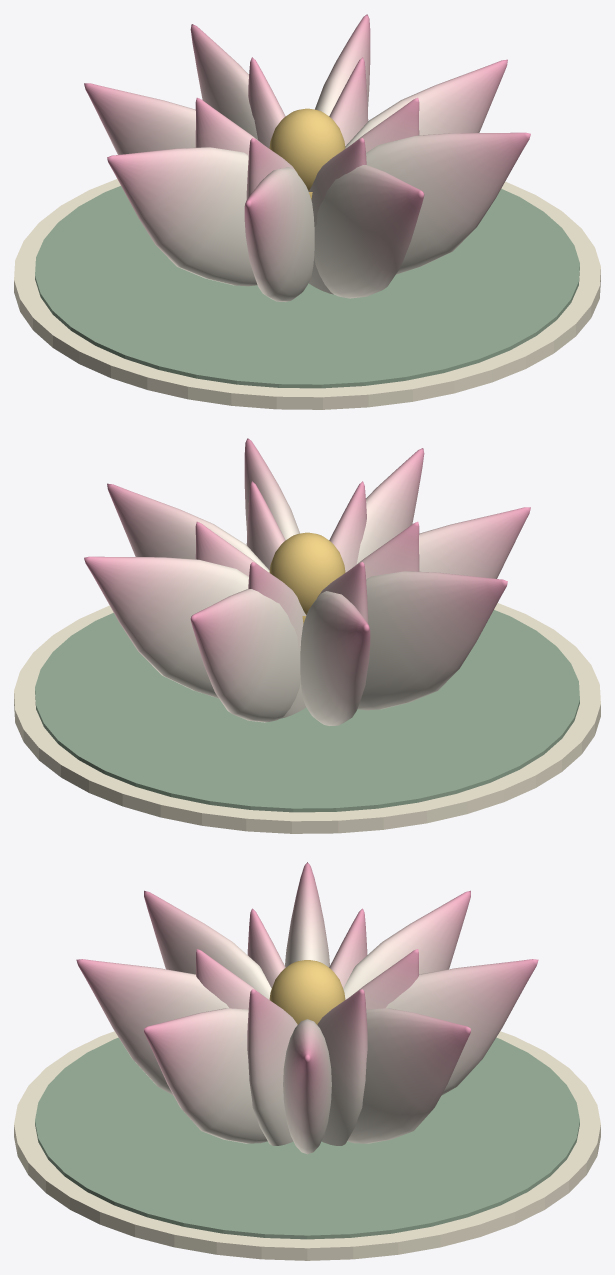
The model's file is bell1.glb.
The picture shows the model from 3 angles, top to bottom: view 1: azimuth 30°, elevation 25°; view 2: azimuth 150°, elevation 25°; view 3: azimuth 270°, elevation 25°; orthographic projection.
Parts seen in each view (by area): view 1: pad, pad-rim, outer4, outer7, outer6, outer5, outer3, outer0, outer2, bell, outer1, inner2 (+5 smaller); view 2: pad, pad-rim, outer4, outer1, outer2, outer3, outer5, outer0, outer6, bell, outer7, inner3 (+5 smaller); view 3: pad, pad-rim, outer1, outer7, outer6, outer2, inner5, inner0, outer0, outer3, outer5, bell (+5 smaller).
Boxes of the visible parts, box(x1,y1,x2,y2) form: pad: box(35, 186, 579, 388); pad-rim: box(14, 179, 600, 409); outer4: box(107, 147, 257, 286); outer7: box(366, 132, 530, 274); outer6: box(314, 165, 424, 298); outer5: box(244, 167, 314, 301); outer3: box(84, 83, 195, 154); outer0: box(345, 59, 507, 148); outer2: box(190, 24, 257, 139); bell: box(269, 108, 345, 190); outer1: box(315, 14, 370, 115); inner2: box(195, 97, 262, 155); pad: box(35, 610, 579, 812); pad-rim: box(14, 603, 600, 833); outer4: box(357, 571, 507, 710); outer1: box(84, 556, 248, 698); outer2: box(190, 589, 300, 722); outer3: box(300, 591, 370, 725); outer5: box(419, 507, 530, 578); outer0: box(107, 483, 269, 572); outer6: box(357, 448, 424, 563); bell: box(269, 532, 345, 614); outer7: box(244, 438, 299, 539); inner3: box(352, 521, 419, 579); pad: box(35, 1037, 579, 1239); pad-rim: box(14, 1031, 600, 1260); outer1: box(347, 1008, 470, 1143); outer7: box(144, 1008, 267, 1143); outer6: box(76, 959, 228, 1095); outer2: box(386, 959, 538, 1095); inner5: box(247, 989, 297, 1145); inner0: box(317, 989, 367, 1145); outer0: box(283, 1019, 331, 1154); outer3: box(343, 890, 470, 999); outer5: box(144, 890, 271, 999); bell: box(269, 960, 345, 1024).
Bounding box in the file's own units: 0.084 × 0.0327 × 0.084.
